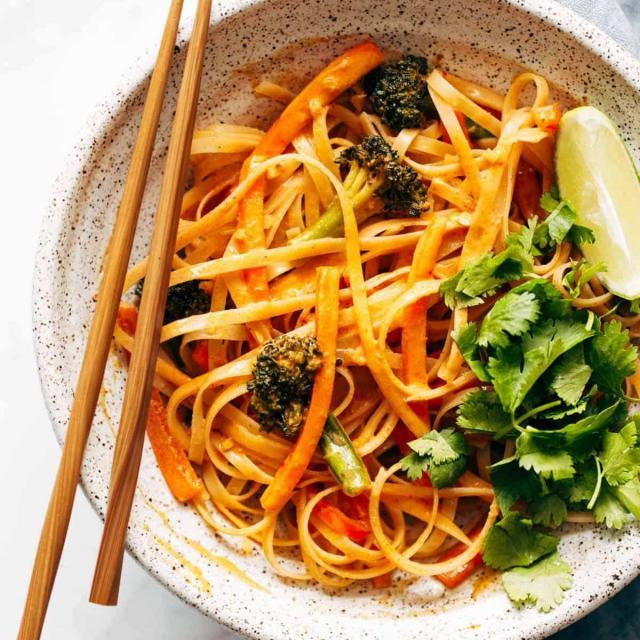noodle: (136, 77, 610, 590)
